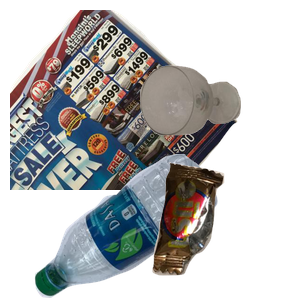glass: (138, 63, 300, 191)
paper: (10, 10, 240, 190)
plastic: (32, 154, 242, 300)
trash: (150, 160, 300, 300)
